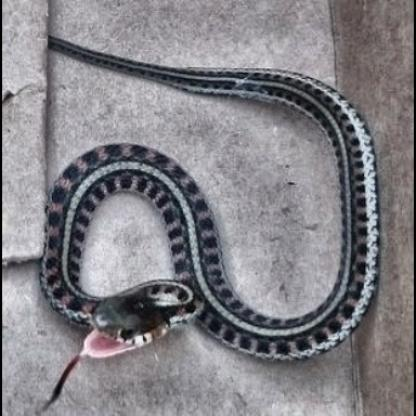Snake: (37, 34, 385, 364)
